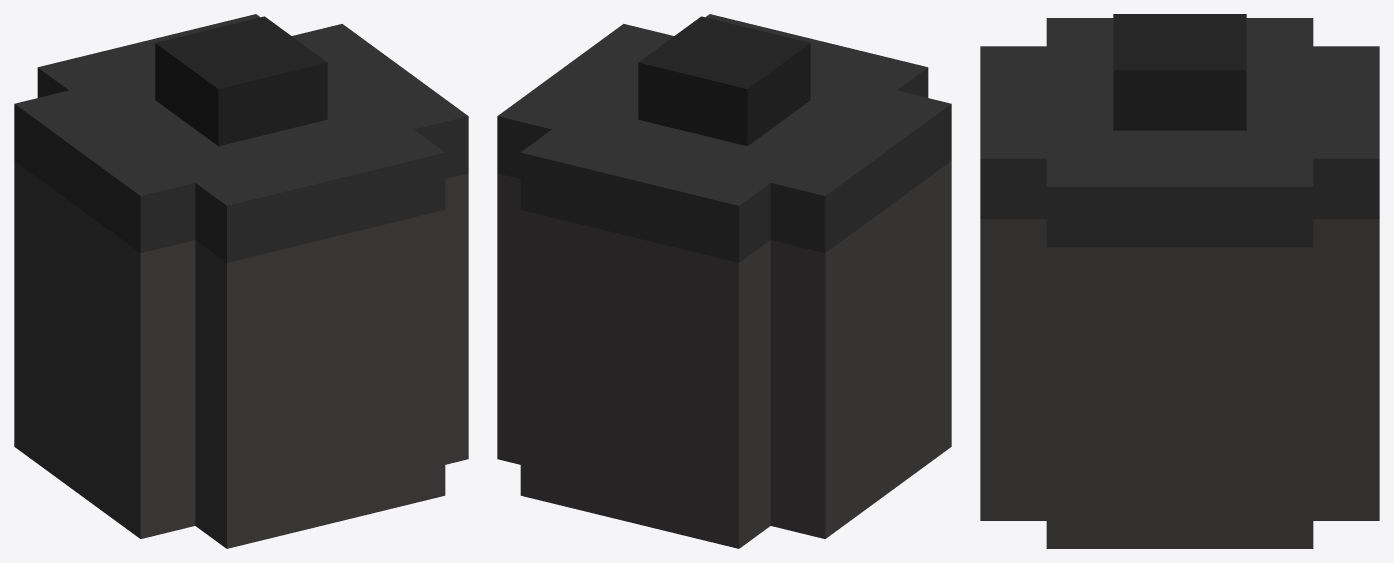
The model's file is Kastrulya.obj.
3 views of the same model, side by side, from view 1: azimuth 30°, elevation 25°; view 2: azimuth 150°, elevation 25°; view 3: azimuth 270°, elevation 25° (orthographic). The views are drawn at different scales.
Visible parts, largest first — view 1: Kastrulya; view 2: Kastrulya; view 3: Kastrulya.
Boxes of the visible parts, <box> form: Kastrulya: <box>14,14,468,548</box>; Kastrulya: <box>497,14,951,548</box>; Kastrulya: <box>980,14,1379,548</box>.
Size of the model in its own units: 0.6 by 0.7 by 0.6.
Materials: 1 (1 with a texture image).
